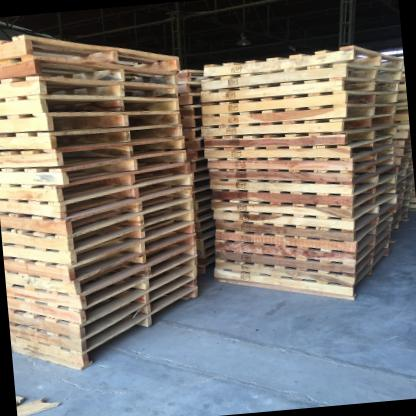BoxFace: (0, 148, 187, 187), (0, 40, 183, 76), (0, 109, 184, 136), (0, 111, 181, 136), (0, 81, 181, 103)
